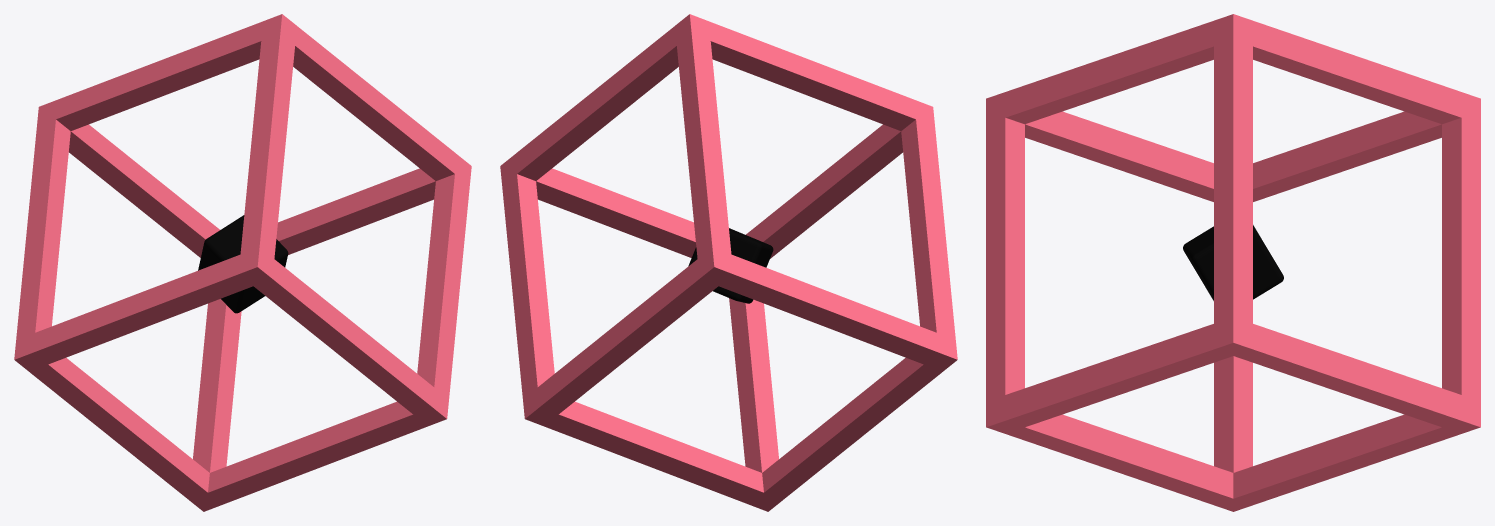
Rendered from cube empty.fbx.
The picture shows the model from 3 angles, left to right: view 1: azimuth 30°, elevation 25°; view 2: azimuth 150°, elevation 25°; view 3: azimuth 270°, elevation 25°; orthographic projection. The views are drawn at different scales.
Parts seen in each view (by area): view 1: Cube.009, Cube.011; view 2: Cube.009, Cube.011; view 3: Cube.009, Cube.011.
Part boxes in pixels (<box>): Cube.009: <box>14,14,471,511</box>; Cube.011: <box>198,215,288,313</box>; Cube.009: <box>500,14,957,511</box>; Cube.011: <box>688,228,773,303</box>; Cube.009: <box>986,14,1480,511</box>; Cube.011: <box>1183,225,1283,300</box>.
Size of the model in its own units: 127 by 127 by 105.
